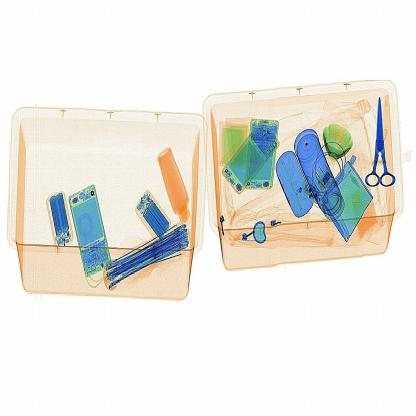gun: (364, 86, 409, 197)
